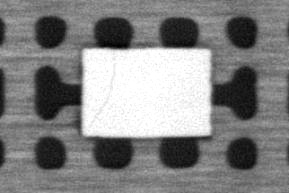DIE_CRACK: (87, 64, 118, 129)
